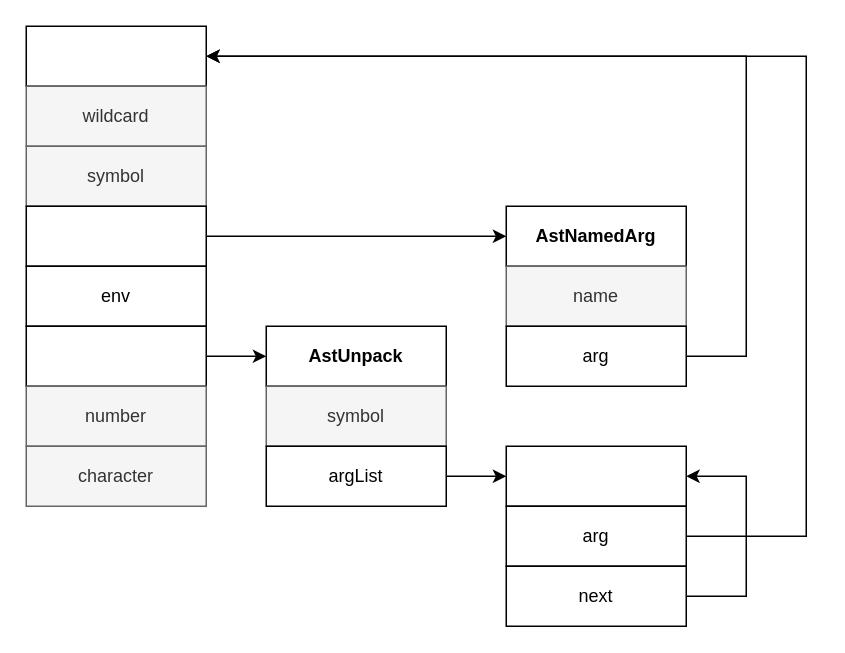
Some shapes in this 845 by 653 pixel diagram are drawn without their labels. Here are the shapes that lost their labels. From the top down, the box of each, then its label:
(25, 25, 206, 86): AstArg
(25, 205, 206, 266): named
(25, 325, 206, 386): unpack
(505, 445, 686, 506): AstArgList
